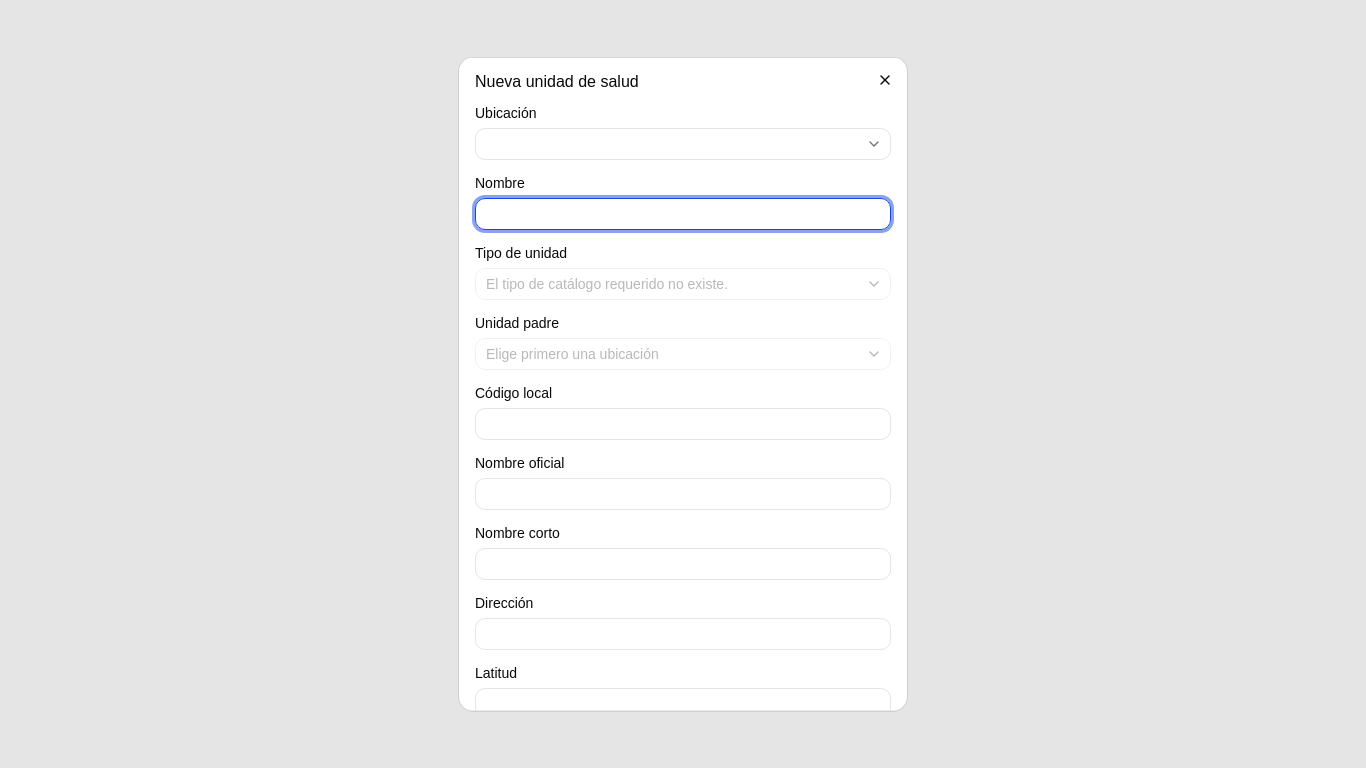
it: HealthFacilityFormDialog — mapeo de errores (SPEC FE06 §3.7) › un 409 con HFAC_001_LOCAL_CODE_EXISTS marca el campo código local
This screenshot has width=1366, height=768.
Click the dropdown named "Nivel País". click: [874, 144]
box: [475,128,891,160]
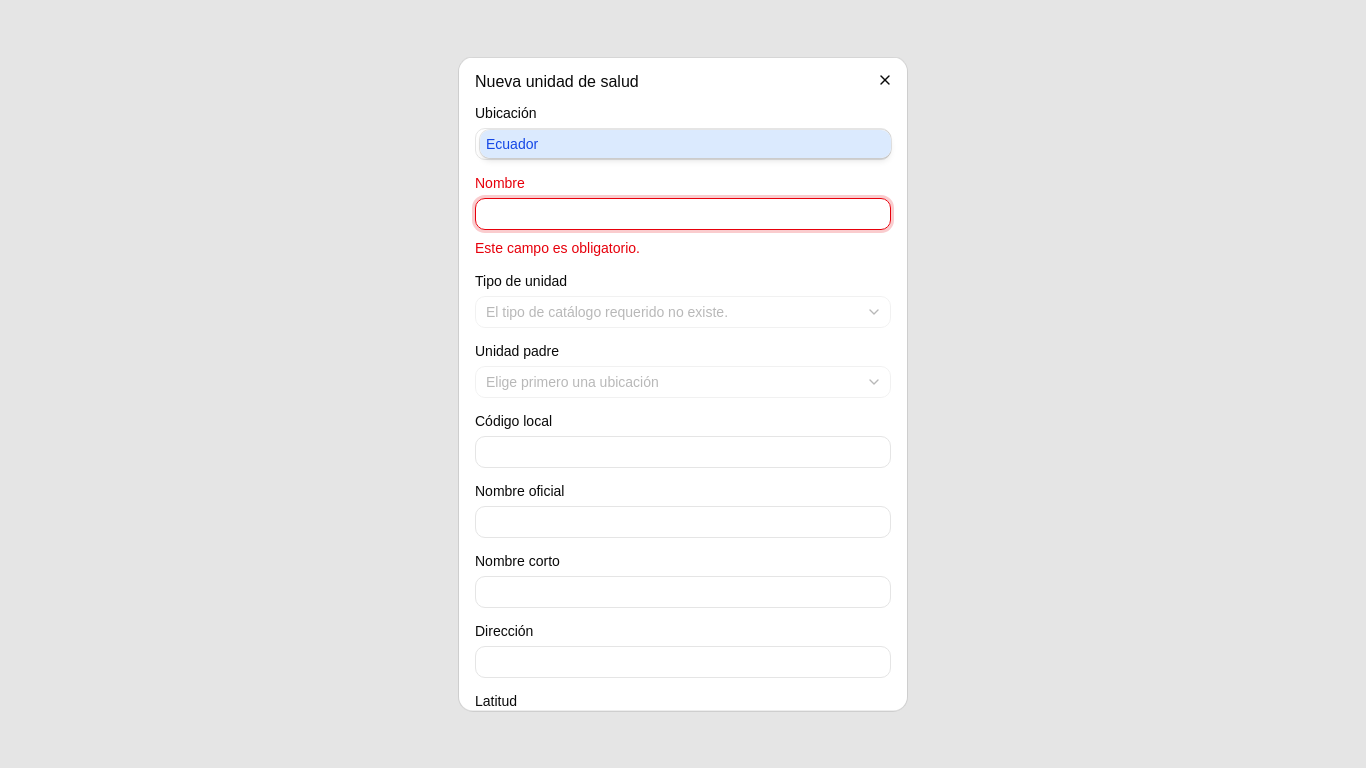
Click the option "Ecuador". click: [512, 144]
box: [480,130,891,158]
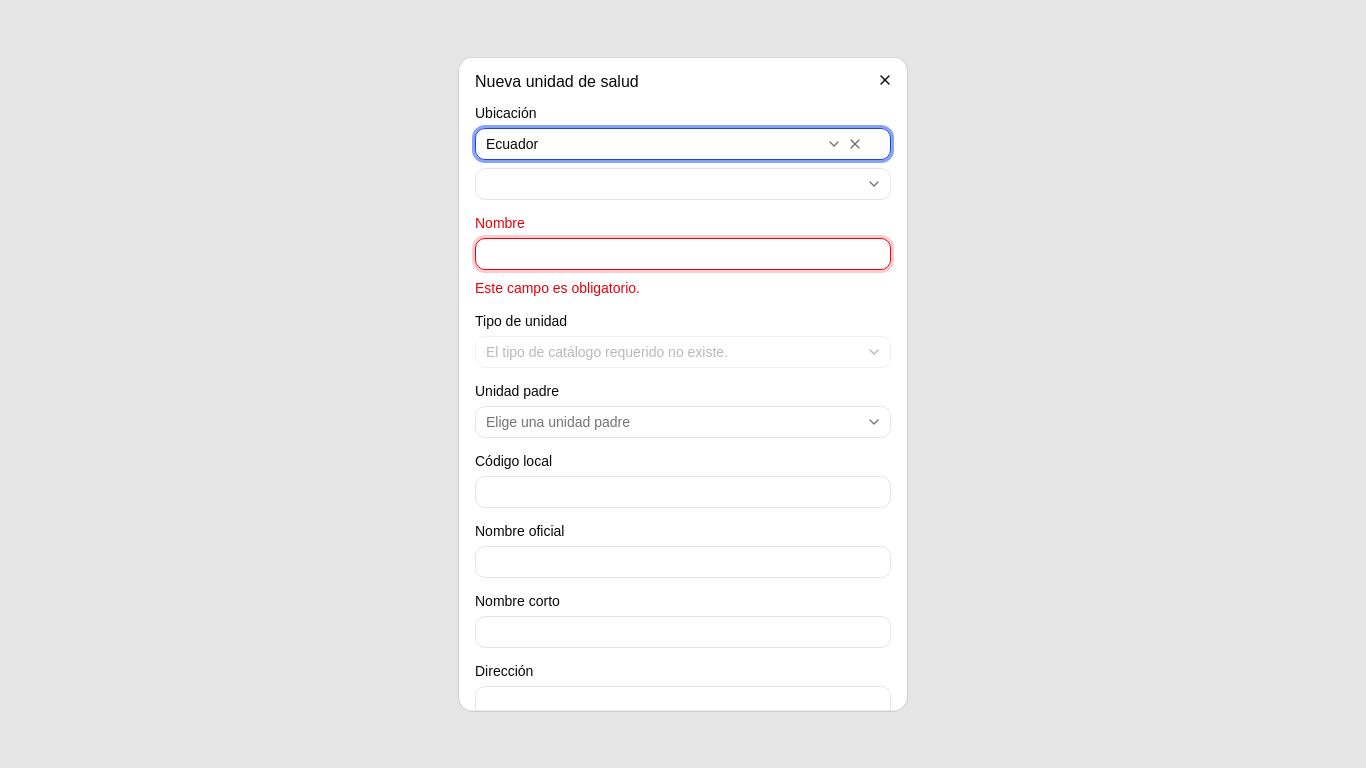
Type "Centro de salud Quito Sur" into the field labelled "Nombre". click: [683, 254]
box: [475,238,891,270]
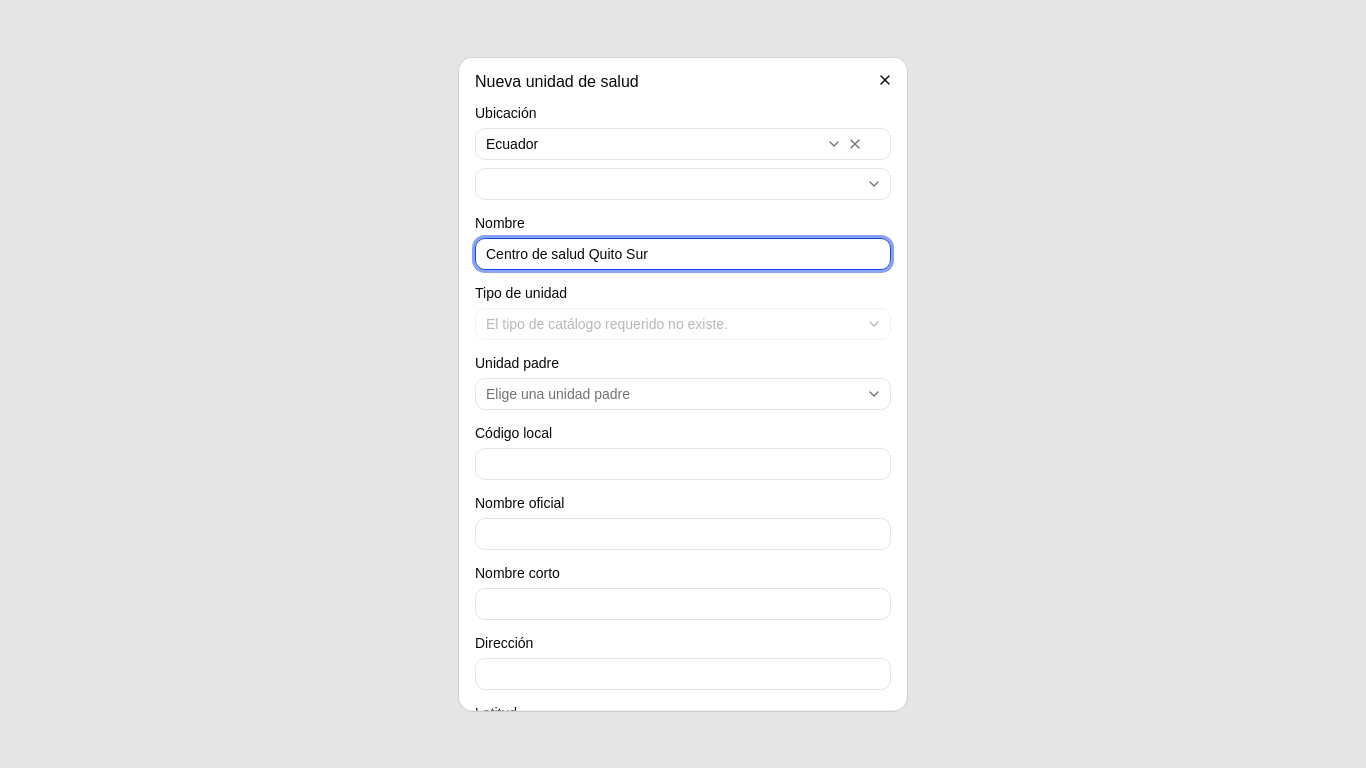
Type "DUP-001" into the field labelled "Código local". click: [683, 464]
box: [475,448,891,480]
(page scrolled)
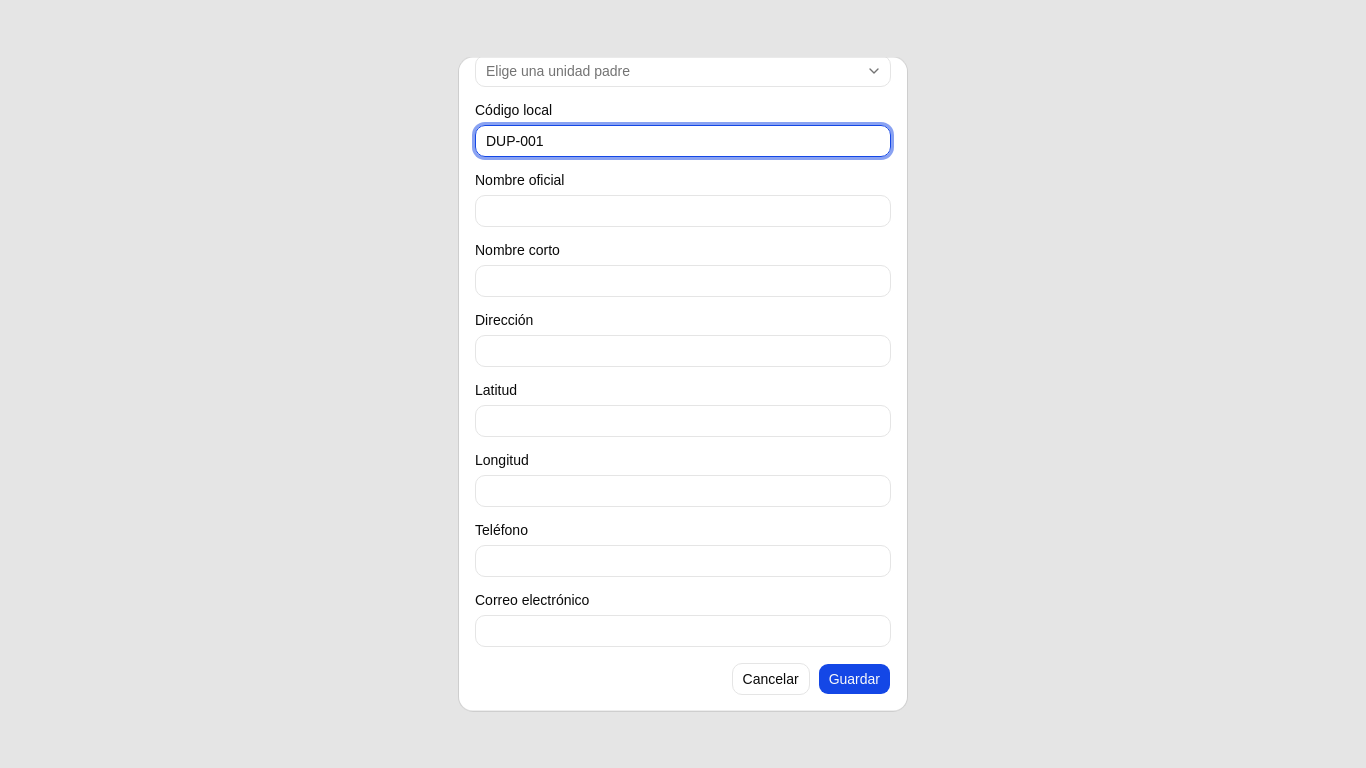
Click the button "Guardar". click: [854, 679]
box: [818,663,891,695]
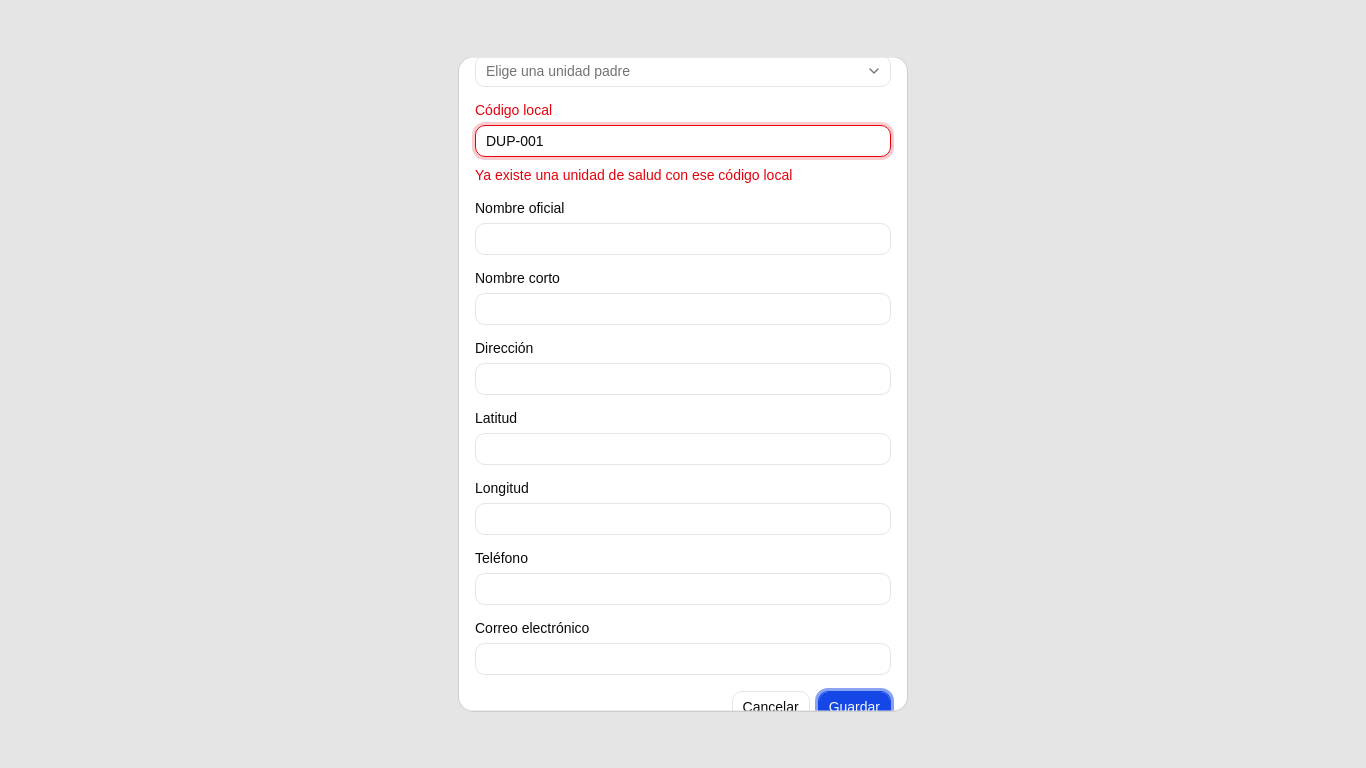
Check: the text "Ya existe una unidad de salud con ese código local" is shown, box [475,167,792,183]
